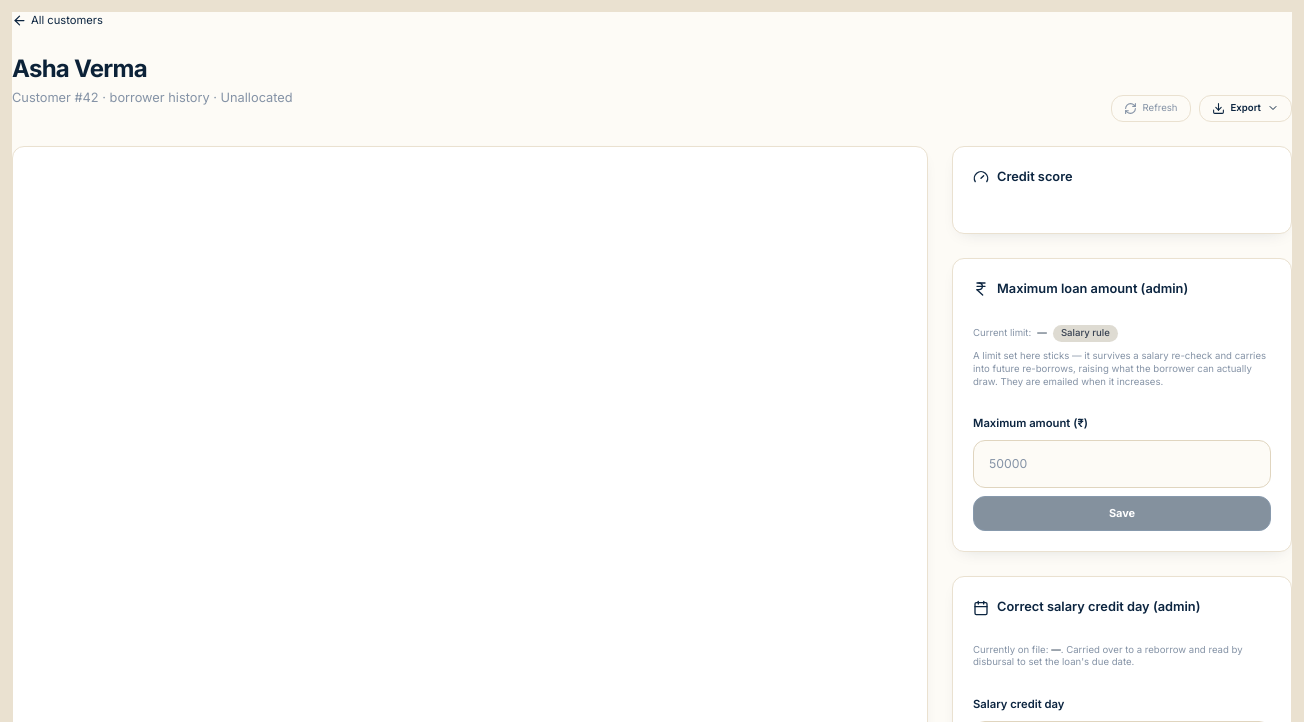
customer full-profile export › offers an ADMIN the CSV and PDF options, fetching the export-only extras on open
Expected: the heading "Asha Verma" is shown, [12,54,147,83]
Click the button "Export" at point(1245, 108), box [1198,94,1292,122]
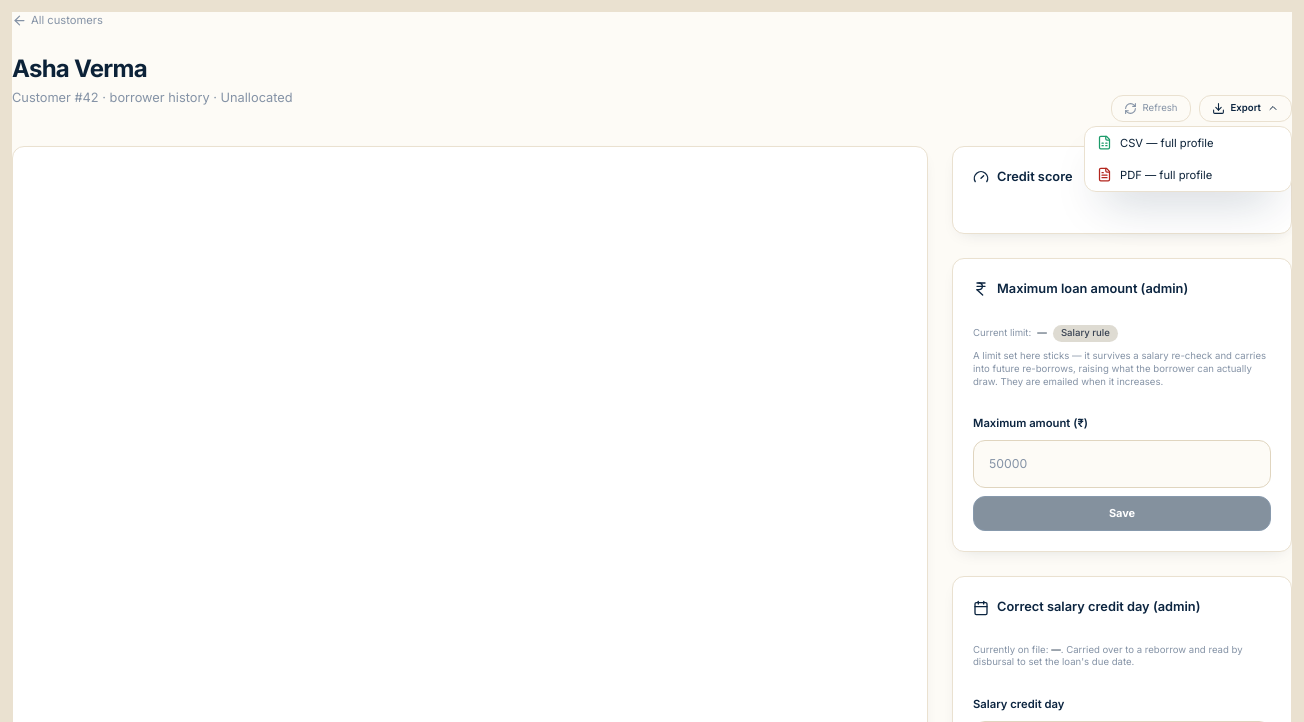
Now the button "CSV — full profile" is shown, box [1085,126,1291,158]
Now the button "PDF — full profile" is shown, box [1085,158,1291,190]
